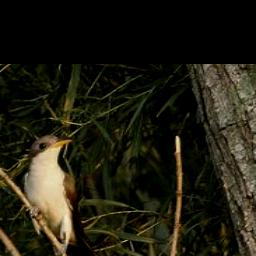Cuckoo: (20, 133, 130, 256)
